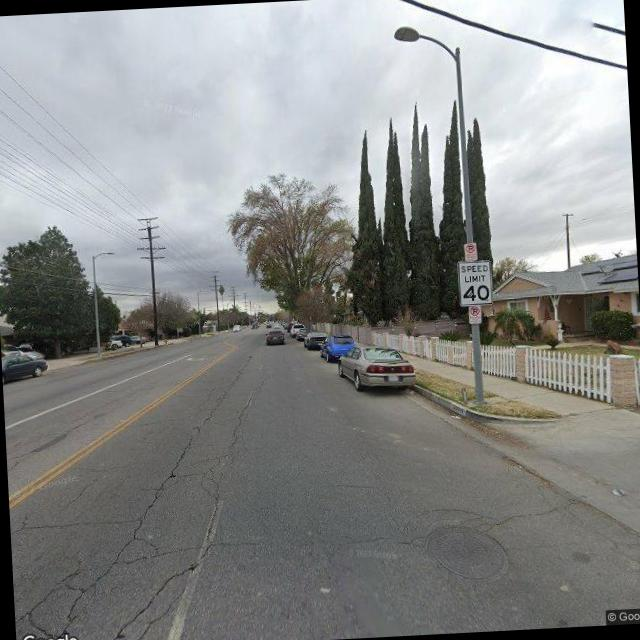crack: (46, 360, 264, 631), (116, 379, 278, 630), (328, 501, 585, 556), (10, 504, 142, 536)
